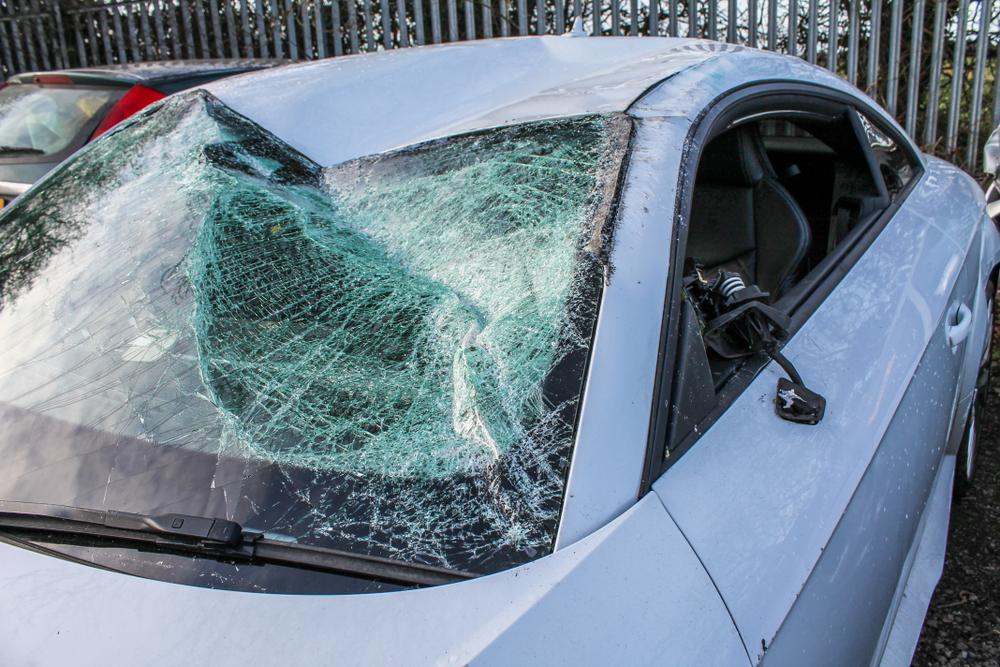dent: (281, 36, 688, 168)
glass shatter: (0, 90, 634, 595)
